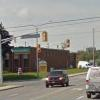Traffic light: (40, 28, 79, 52)
